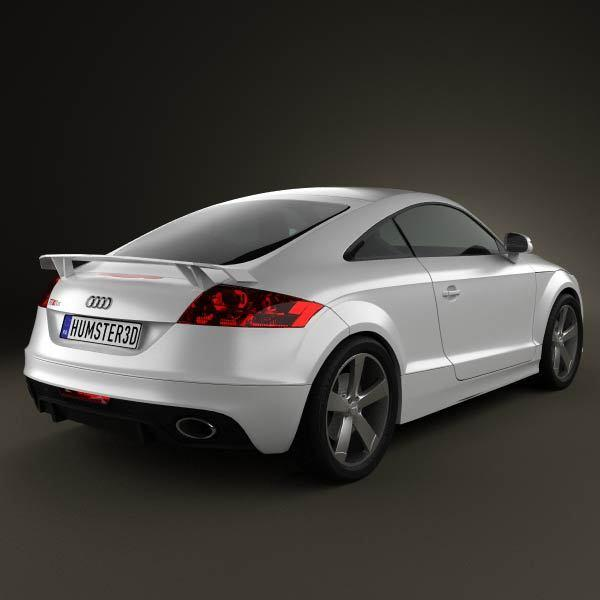Audi: (81, 291, 121, 313)
